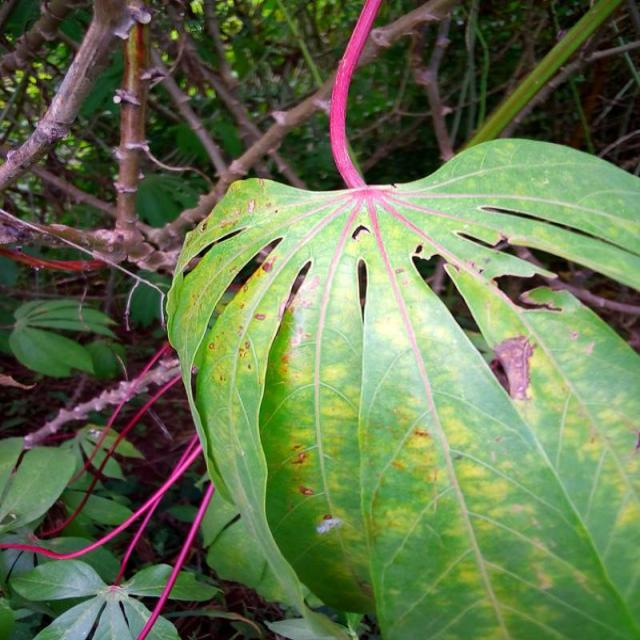cassava leaf: (163, 0, 640, 638)
